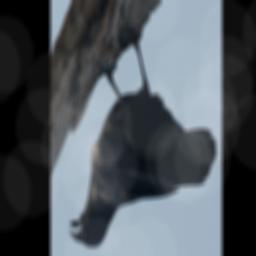Crow: (67, 30, 217, 250)
